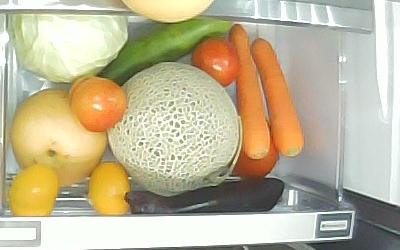cabbage: (8, 14, 127, 83)
carrot: (250, 38, 305, 156), (230, 22, 270, 159)
eggplant: (123, 177, 285, 214)
melon: (108, 62, 240, 189)
pear: (10, 88, 106, 187)
prune: (69, 76, 127, 133), (191, 37, 241, 88)
tangerine: (9, 166, 58, 218), (88, 160, 126, 214)
tomato: (232, 142, 279, 178)
zucchini: (98, 17, 231, 86)
